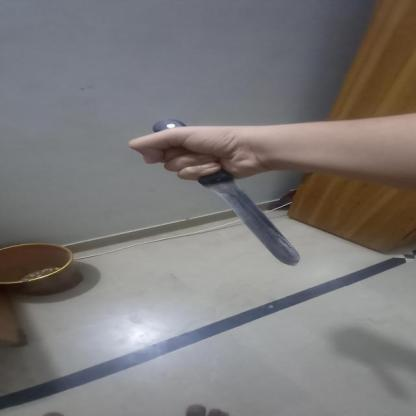Knife: (139, 114, 308, 268)
